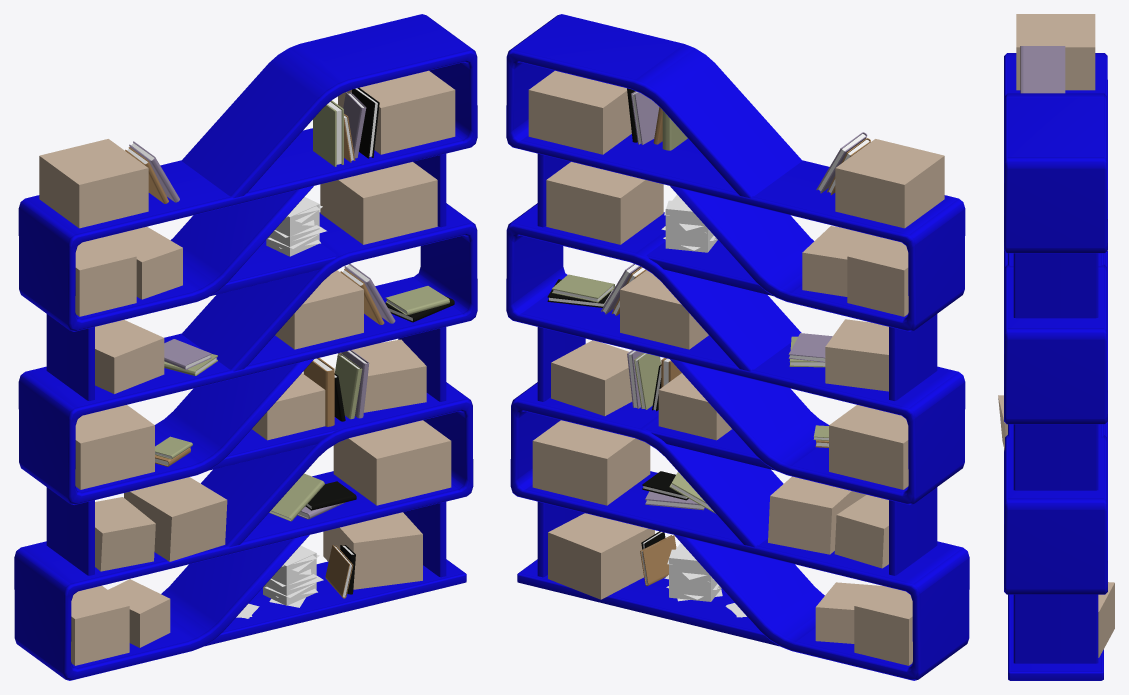
Rendered from Biblio_Low.fbx.
3 views of the same model, side by side, from view 1: azimuth 30°, elevation 25°; view 2: azimuth 150°, elevation 25°; view 3: azimuth 270°, elevation 25° (orthographic).
Visible parts, largest first — view 1: Cube.004, Etagere_010; view 2: Cube.004, Etagere_010; view 3: Cube.004, Etagere_010.
Part boxes in pixels (x1,y1,x2,y2): Cube.004: [14, 14, 477, 680]; Etagere_010: [39, 70, 455, 665]; Cube.004: [506, 14, 969, 680]; Etagere_010: [528, 70, 944, 665]; Cube.004: [1004, 53, 1107, 680]; Etagere_010: [998, 14, 1114, 657].
Size of the model in its own units: 2.3 by 2.84 by 0.5706.
